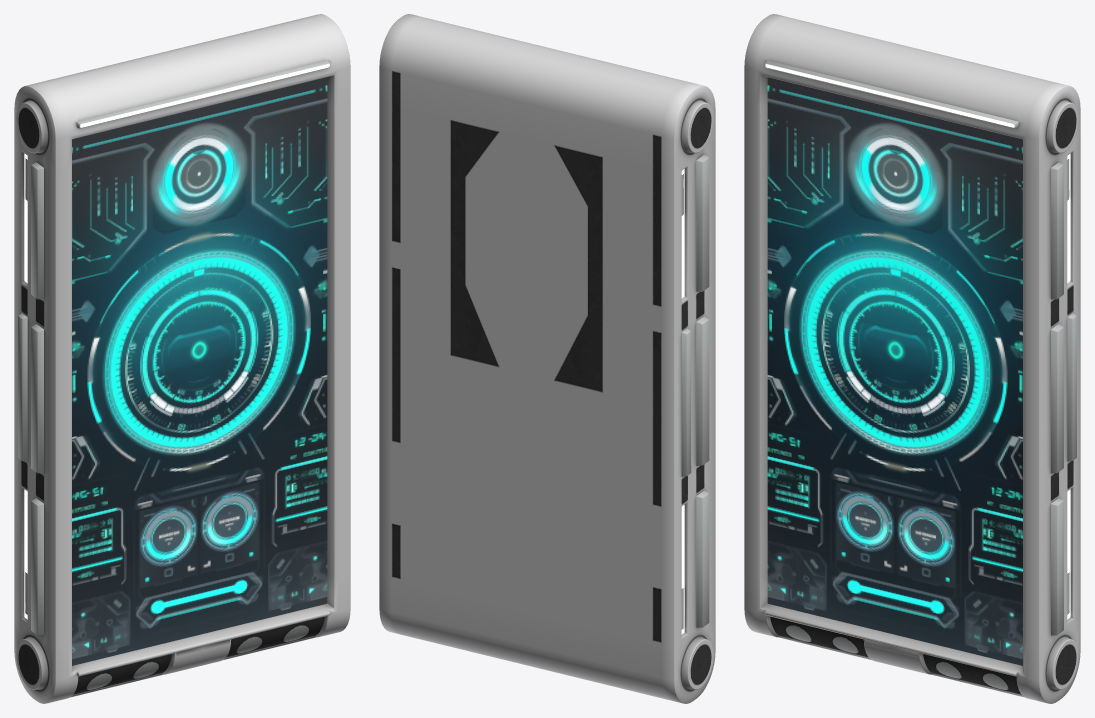
The model's file is LightBox02_2.FBX.
3 views of the same model, side by side, from view 1: azimuth 30°, elevation 25°; view 2: azimuth 150°, elevation 25°; view 3: azimuth 330°, elevation 25° (orthographic).
Visible parts, largest first — view 1: LightBox02_2; view 2: LightBox02_2; view 3: LightBox02_2.
Boxes of the visible parts, left/top/right/bottom form: LightBox02_2: left=14, top=14, right=350, bottom=703; LightBox02_2: left=379, top=14, right=715, bottom=703; LightBox02_2: left=744, top=14, right=1080, bottom=703.
Size of what is drawn, in the model's own units: 0.9722 by 1.85 by 0.2376.
